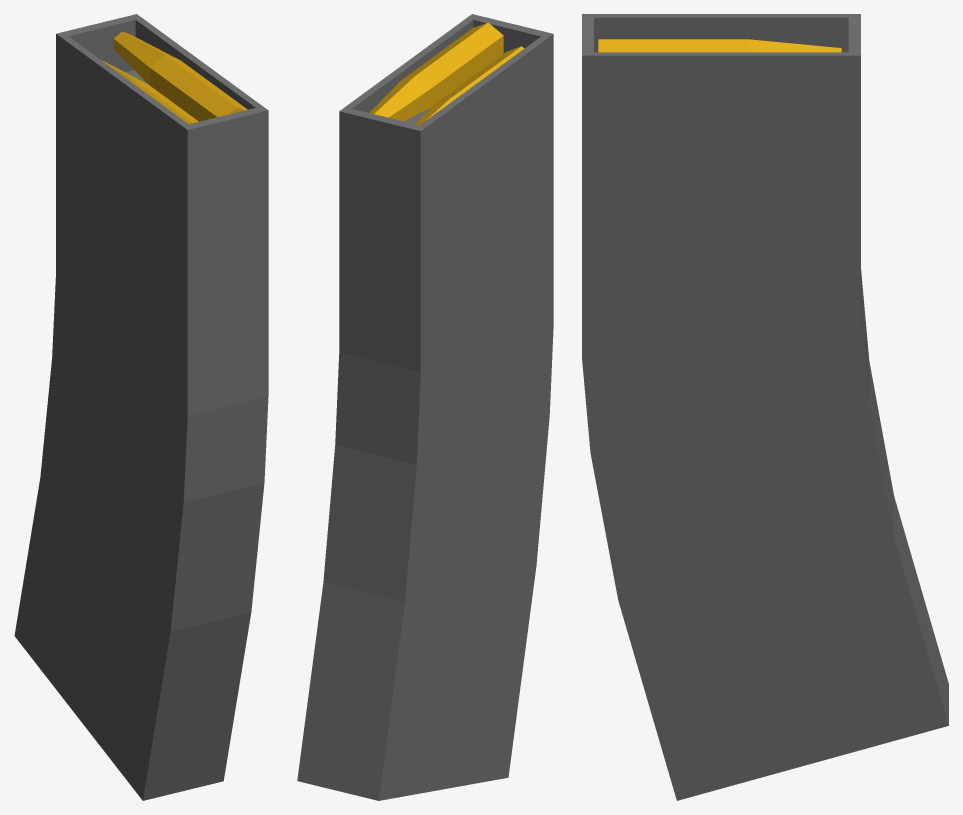
3 renders of one model, left to right at view 1: azimuth 30°, elevation 25°; view 2: azimuth 150°, elevation 25°; view 3: azimuth 270°, elevation 25°, orthographic. The views are drawn at different scales.
Visible parts, largest first — view 1: Magazine; view 2: Magazine; view 3: Magazine.
Part boxes in pixels (bbox=[...]): Magazine: bbox=[14, 14, 268, 800]; Magazine: bbox=[297, 14, 553, 800]; Magazine: bbox=[582, 14, 948, 800].
Size of the model in its own units: 2.4 by 20.07 by 8.92.
